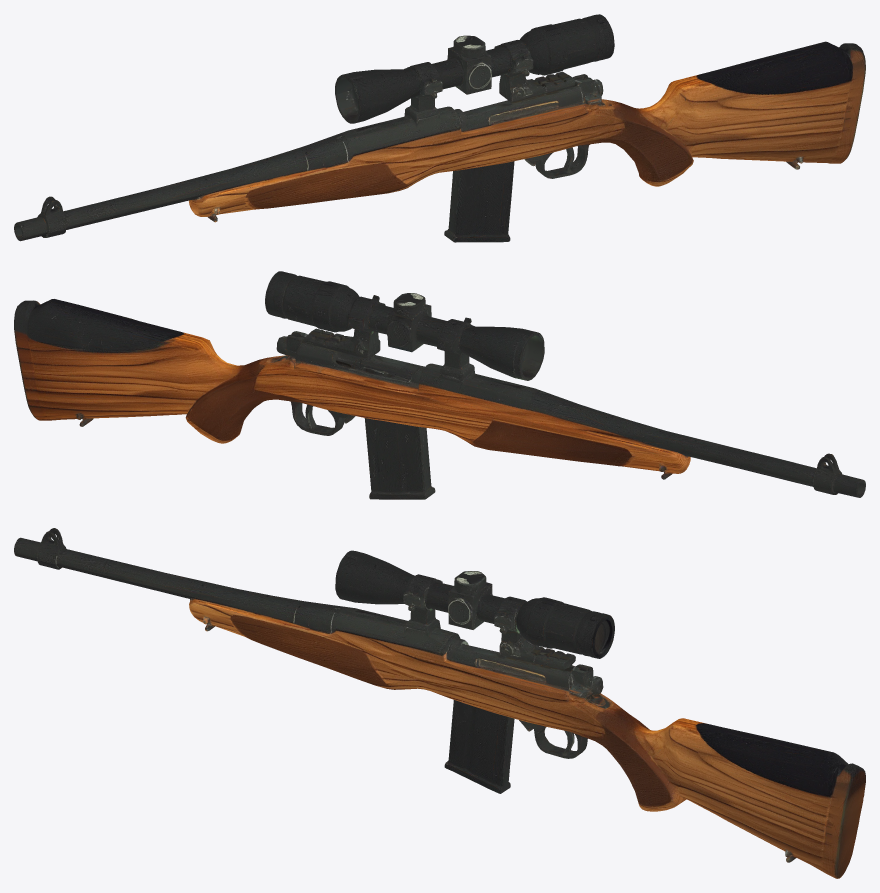
The model's file is marksman.glb.
3 renders of one model, top to bottom at view 1: azimuth 30°, elevation 25°; view 2: azimuth 150°, elevation 25°; view 3: azimuth 330°, elevation 25°, orthographic.
Bounding box in the file's own units: 1.9 × 0.4545 × 0.099.
Materials: 1 (1 with a texture image).
